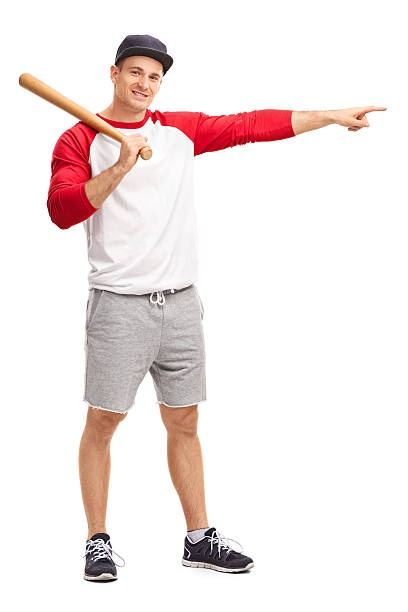bita: (12, 69, 153, 152)
